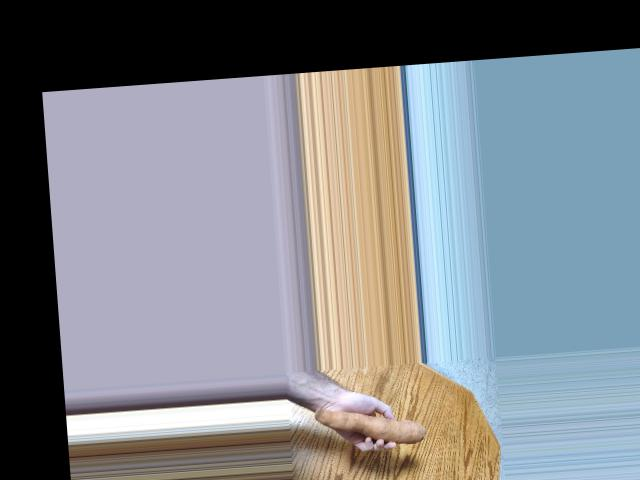sweet_potato: (318, 404, 429, 452)
